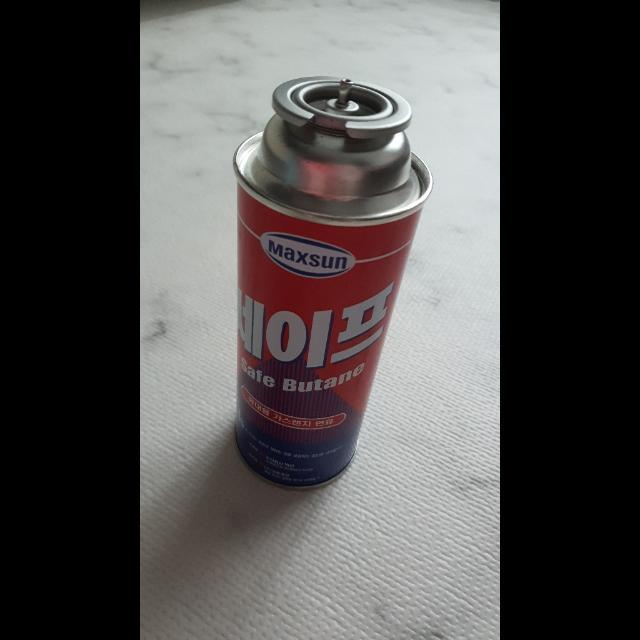chemical_spray_can: (233, 64, 451, 496)
